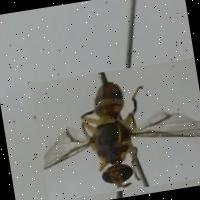Oriental-fruit-fly: (29, 57, 200, 200)
